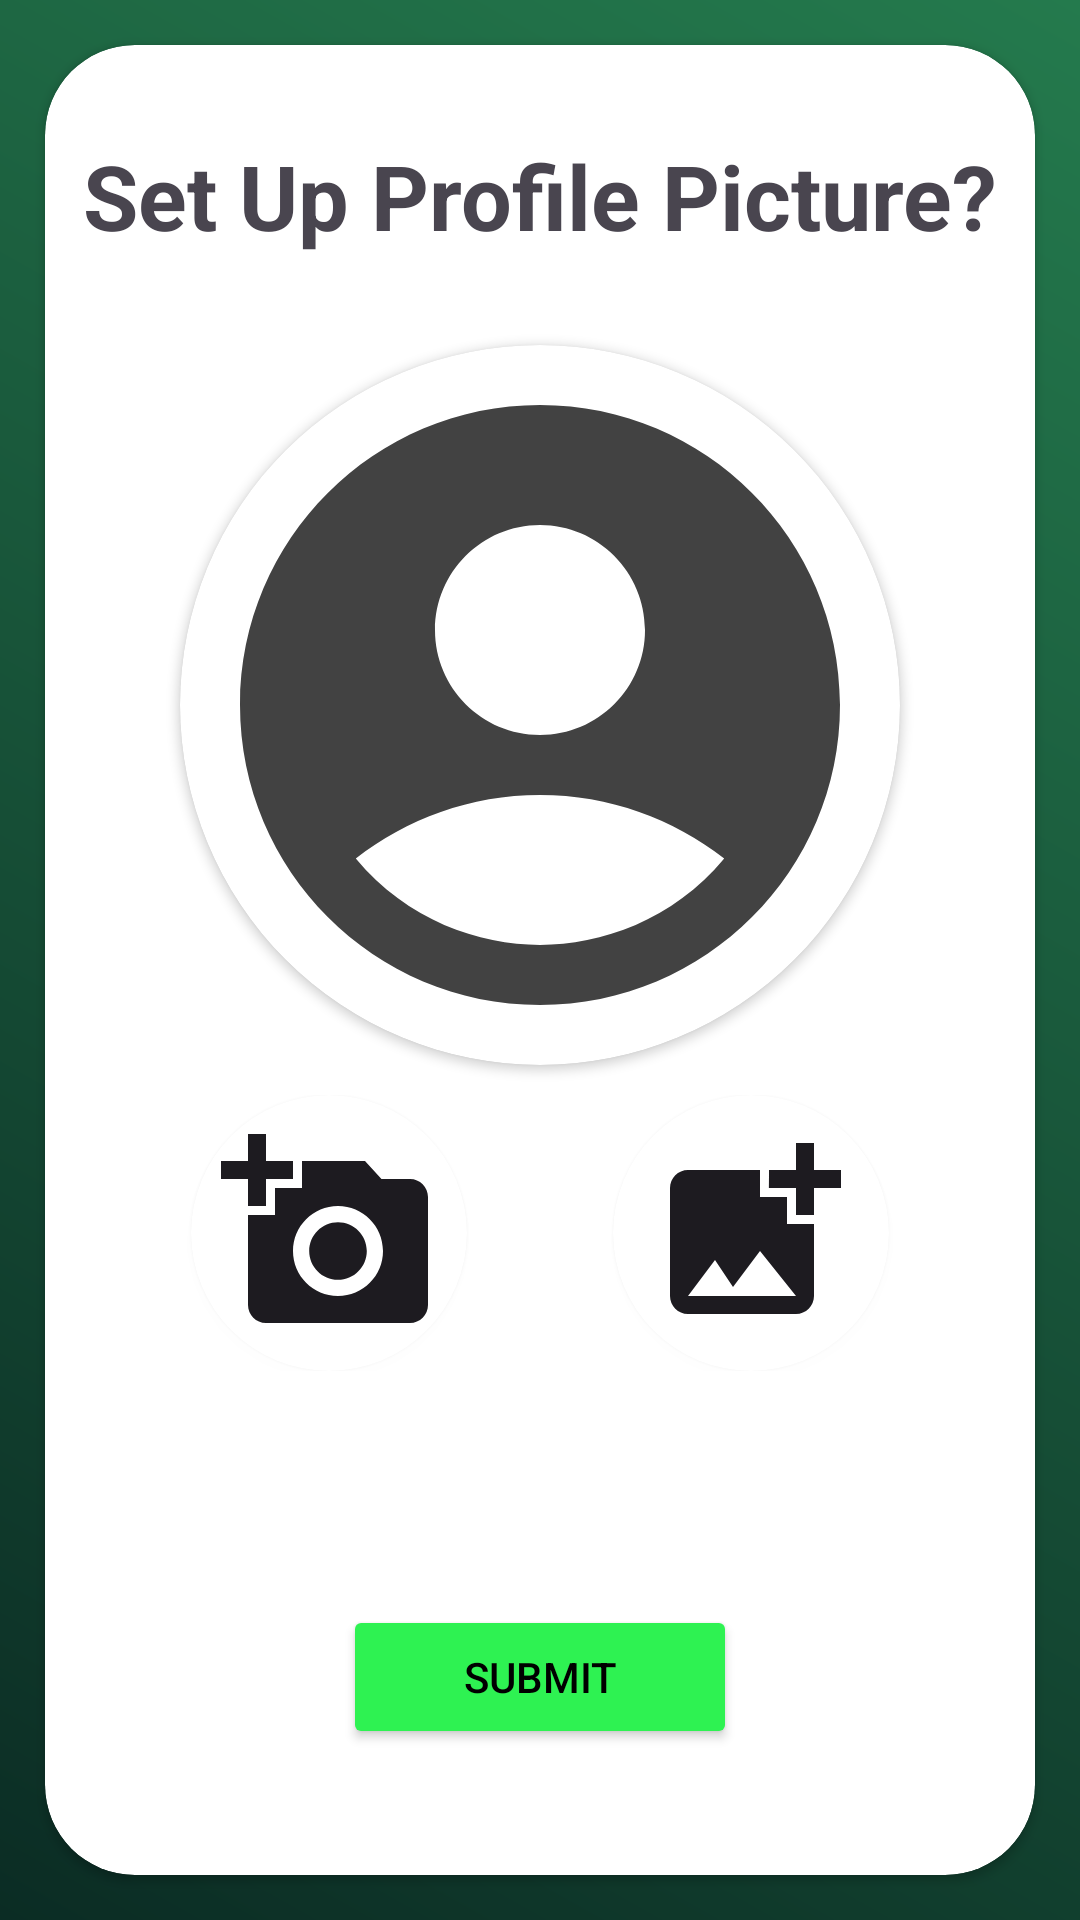

Named icons in this screenshot (1080*1920) and their bounding boxes, [x1,y1,x2,y2]:
camera: [221,1134,428,1323]
gallery: [670,1143,841,1314]
